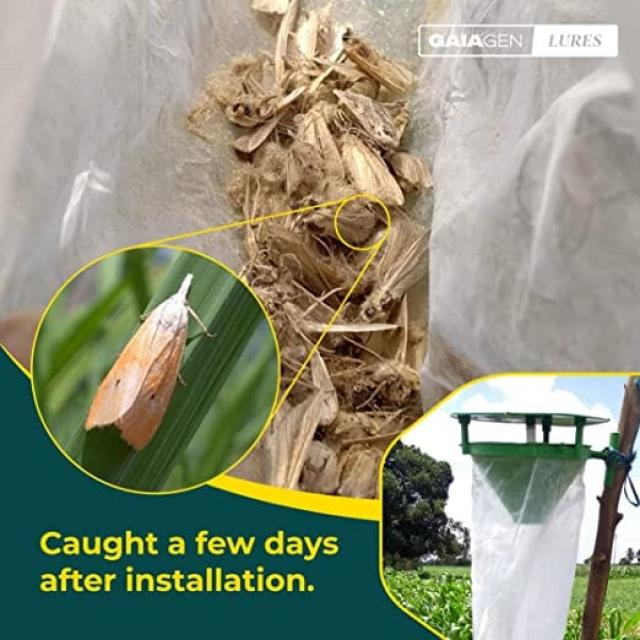cornborer-Adult-: (81, 269, 220, 455)
